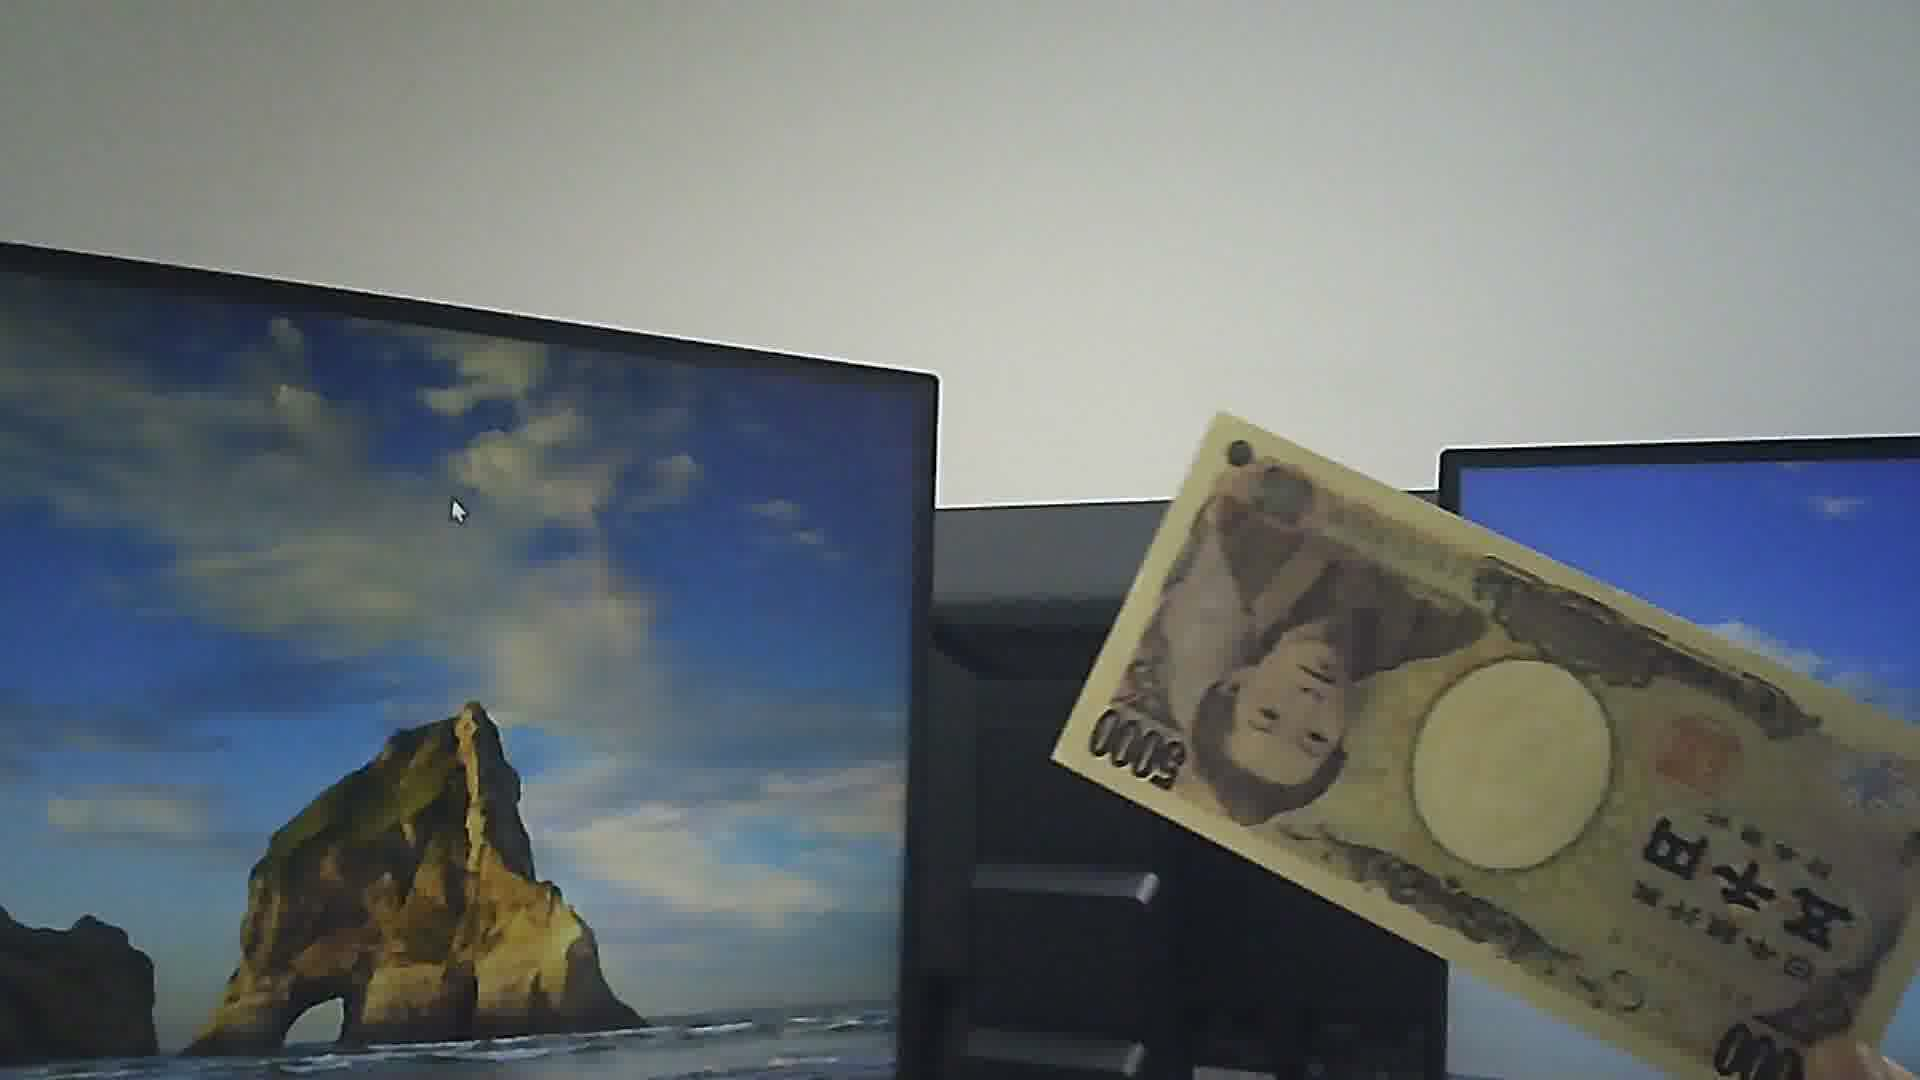5,000 Yen: (1065, 406, 1915, 1079)
